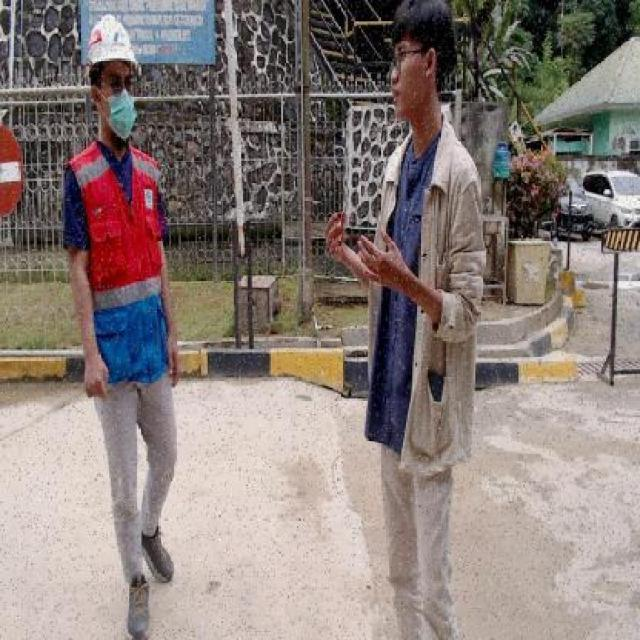Boots: (137, 518, 177, 588), (118, 572, 156, 639)
Helmet: (82, 12, 144, 77)
Mask: (93, 89, 138, 142)
